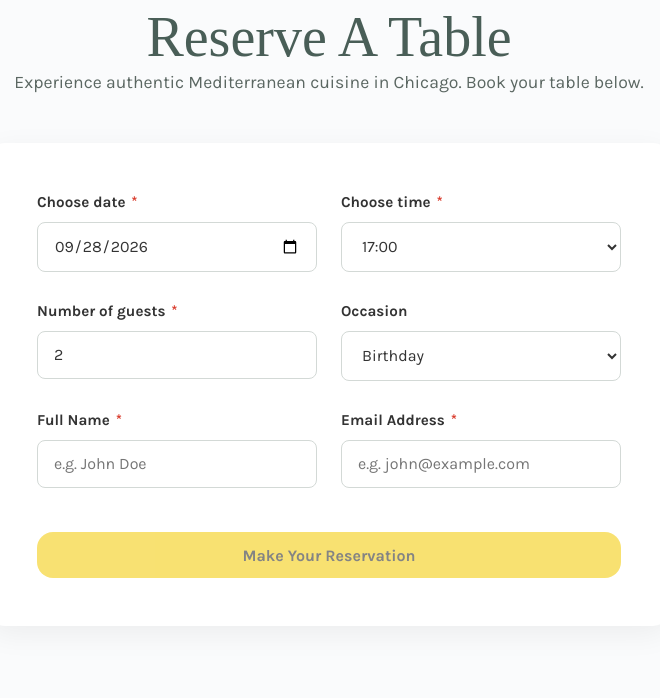
it: Mock API integration and submission handling › displays confirmation screen upon successful submission
This screenshot has width=660, height=698.
In the field labelled "Full Name *": (177, 464) [37,440,317,488], type "Alice Smith"
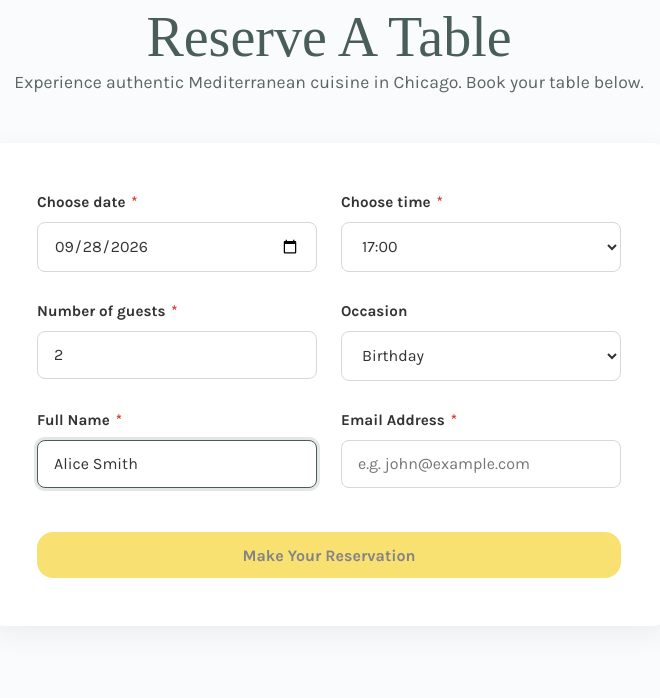
In the field labelled "Email Address *": (481, 464) [341,440,621,488], type "alice@example.com"
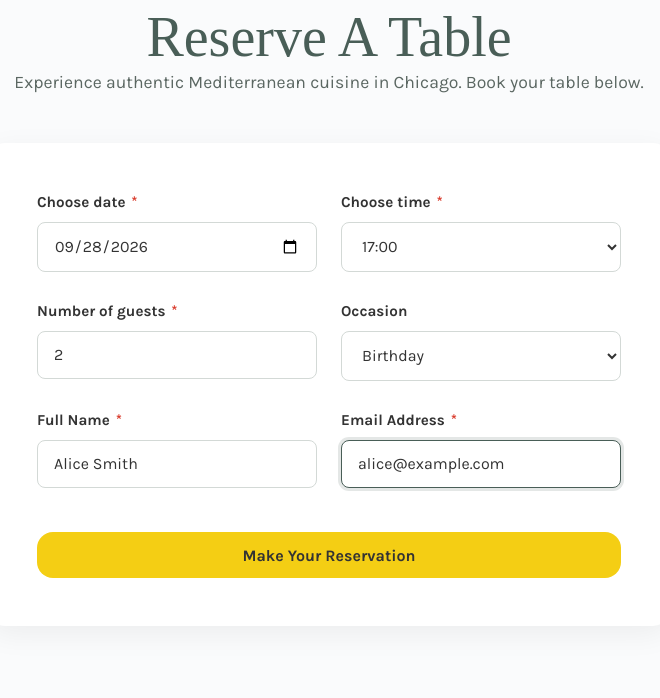
Click the button with aria-label "confirm table reservation": click(329, 555) [37,532,621,578]
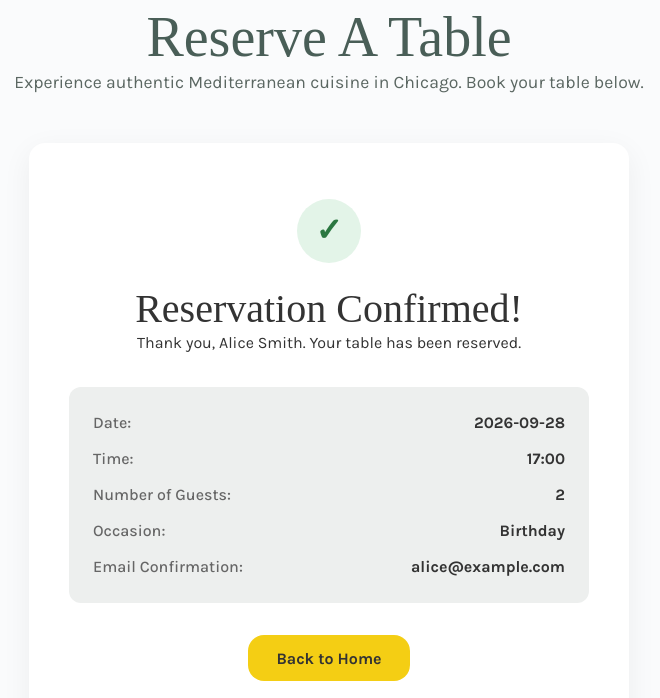
Now the heading "Reservation Confirmed!" is shown, box [135,286,523,331]
Now the text "Thank you, Alice Smith. Your table has been reserved." is shown, box [137,333,521,352]
